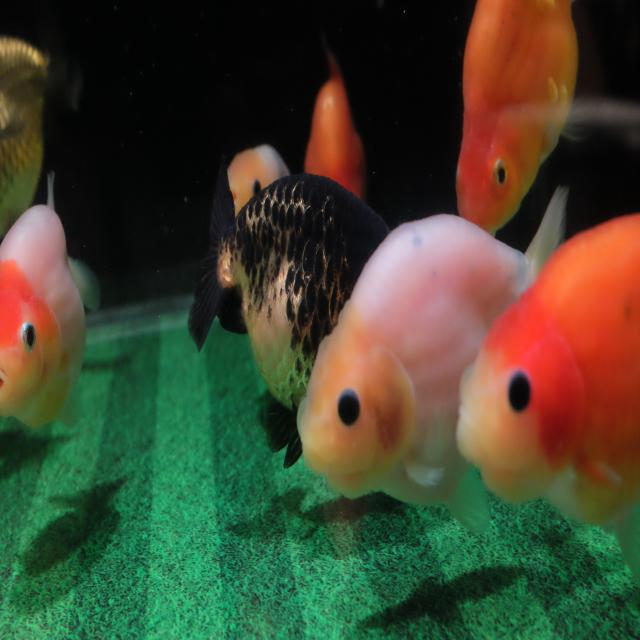Tilapia: (296, 187, 569, 538), (455, 214, 640, 585), (187, 153, 391, 469), (456, 0, 585, 232), (0, 168, 101, 441)
